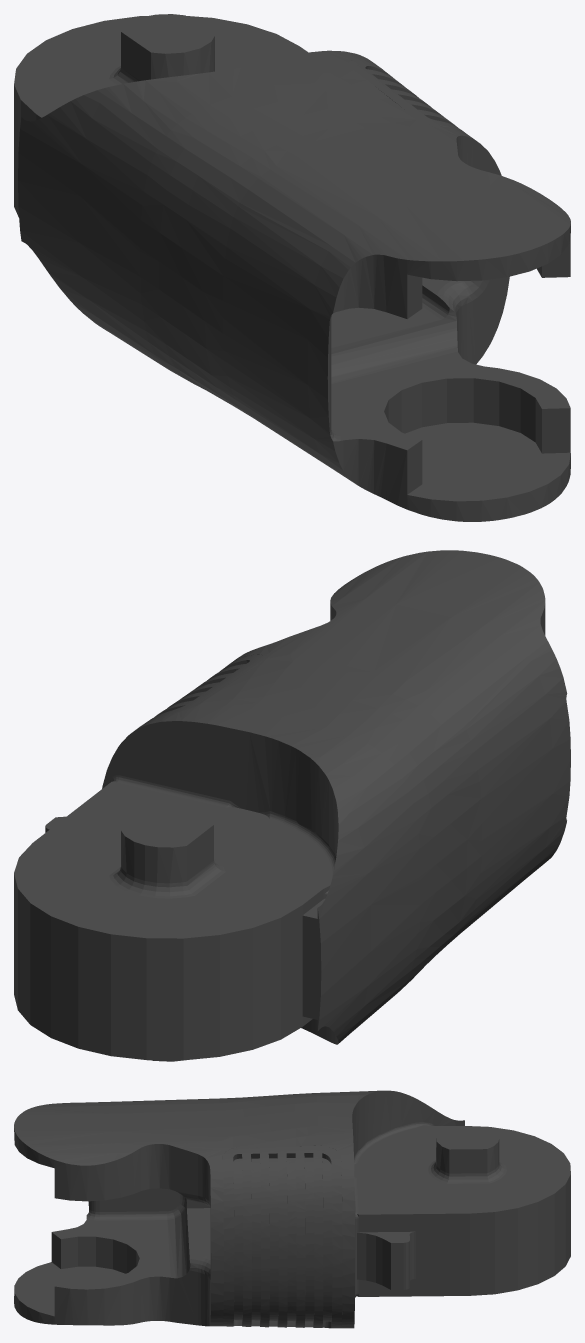
The model's file is lh_pinky_proximal_vis.obj.
3 renders of one model, top to bottom at view 1: azimuth 30°, elevation 25°; view 2: azimuth 150°, elevation 25°; view 3: azimuth 270°, elevation 25°, orthographic. The views are drawn at different scales.
Parts seen in each view (by area): view 1: lh_pinky_proximal; view 2: lh_pinky_proximal; view 3: lh_pinky_proximal.
Part boxes in pixels (x1,y1,x2,y2): lh_pinky_proximal: (14,14,570,521); lh_pinky_proximal: (14,550,570,1061); lh_pinky_proximal: (14,1090,570,1328).
Bounding box in the file's own units: 0.0193 × 0.016 × 0.0429.
Materials: 1 (1 with a texture image).
